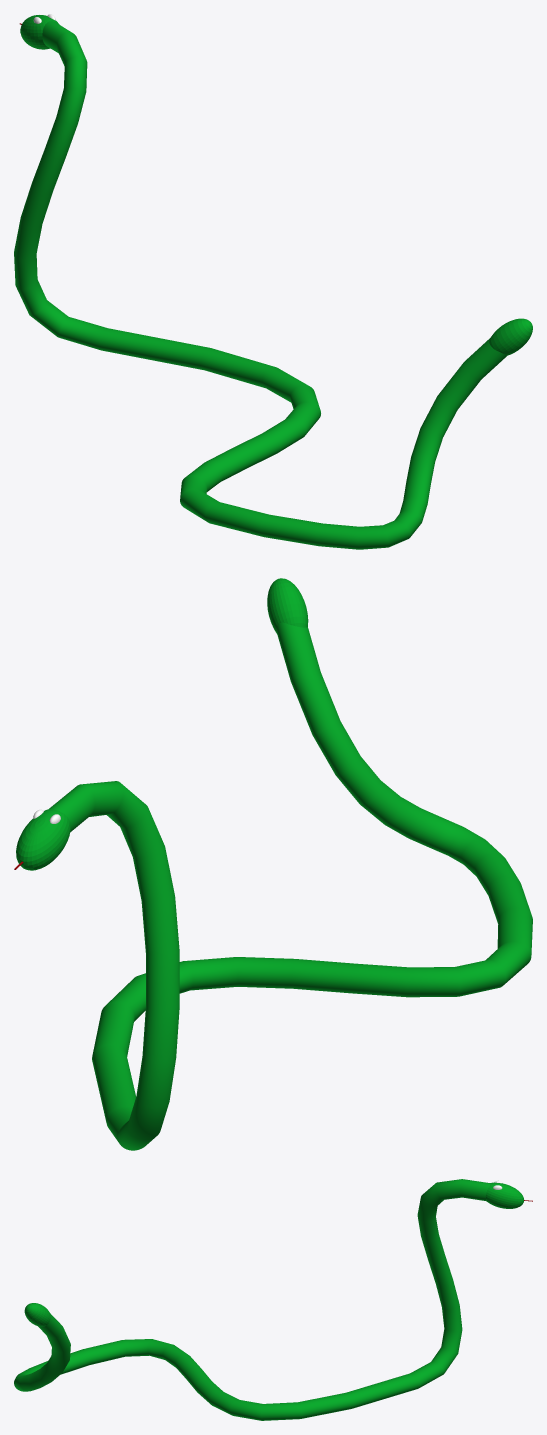
Rendered from snake.glb.
3 views of the same model, one above another, from view 1: azimuth 30°, elevation 25°; view 2: azimuth 150°, elevation 25°; view 3: azimuth 270°, elevation 25° (orthographic). The views are drawn at different scales.
Parts seen in each view (by area): view 1: BezierCurve, Sphere001, Sphere; view 2: BezierCurve, Sphere, Sphere001; view 3: BezierCurve, Sphere, Sphere001.
Boxes of the visible parts, x1,y1,x2,y2 form: BezierCurve: [14, 21, 506, 549]; Sphere001: [489, 318, 532, 355]; Sphere: [20, 15, 59, 49]; BezierCurve: [49, 622, 532, 1150]; Sphere: [16, 808, 70, 870]; Sphere001: [267, 578, 308, 633]; BezierCurve: [14, 1179, 490, 1420]; Sphere: [486, 1182, 523, 1208]; Sphere001: [24, 1303, 50, 1326].
Size of the model in its own units: 58.55 by 61.74 by 140.
